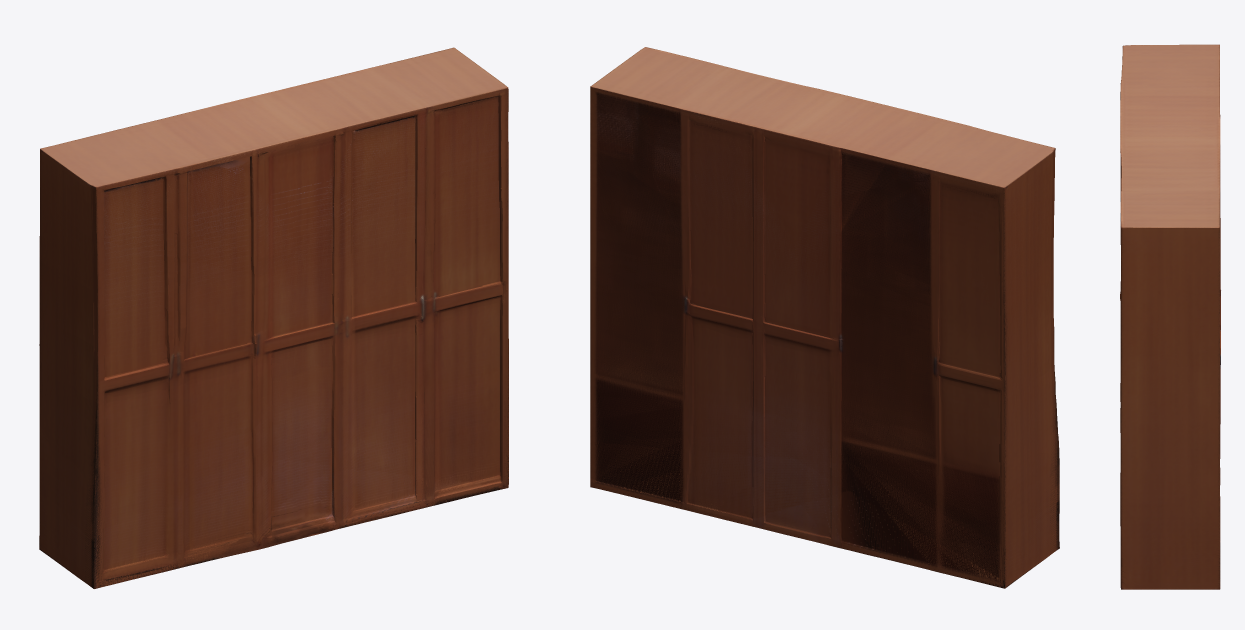
Rendered from voxhammer.glb.
3 views of the same model, side by side, from view 1: azimuth 30°, elevation 25°; view 2: azimuth 150°, elevation 25°; view 3: azimuth 270°, elevation 25° (orthographic). The views are drawn at different scales.
Parts seen in each view (by area): view 1: world; view 2: world; view 3: world.
Part boxes in pixels (x1=…): world: x1=39, y1=47, x2=508, y2=588; world: x1=590, y1=47, x2=1059, y2=588; world: x1=1120, y1=44, x2=1220, y2=589.
Size of the model in its own units: 1.1 by 1.02 by 0.2723.
Materials: 2 (1 with a texture image).
